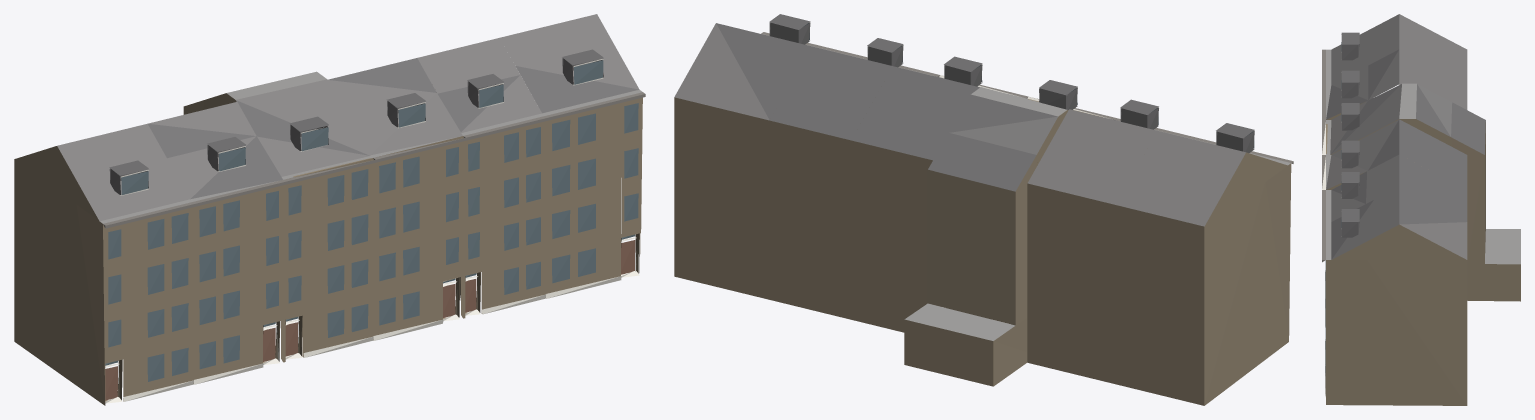
Rendered from chunk-face-leijnsen-2-30-r1.lod2.glb.
3 views of the same model, side by side, from view 1: azimuth 30°, elevation 25°; view 2: azimuth 150°, elevation 25°; view 3: azimuth 270°, elevation 25° (orthographic). The views are drawn at different scales.
Visible parts, largest first — view 1: lod2; view 2: lod2; view 3: lod2.
Part boxes in pixels (<box>): lod2: <box>14,14,645,405</box>; lod2: <box>674,14,1293,405</box>; lod2: <box>1322,14,1520,405</box>.
Bounding box in the file's own units: 37.12 × 14.96 × 14.83.
